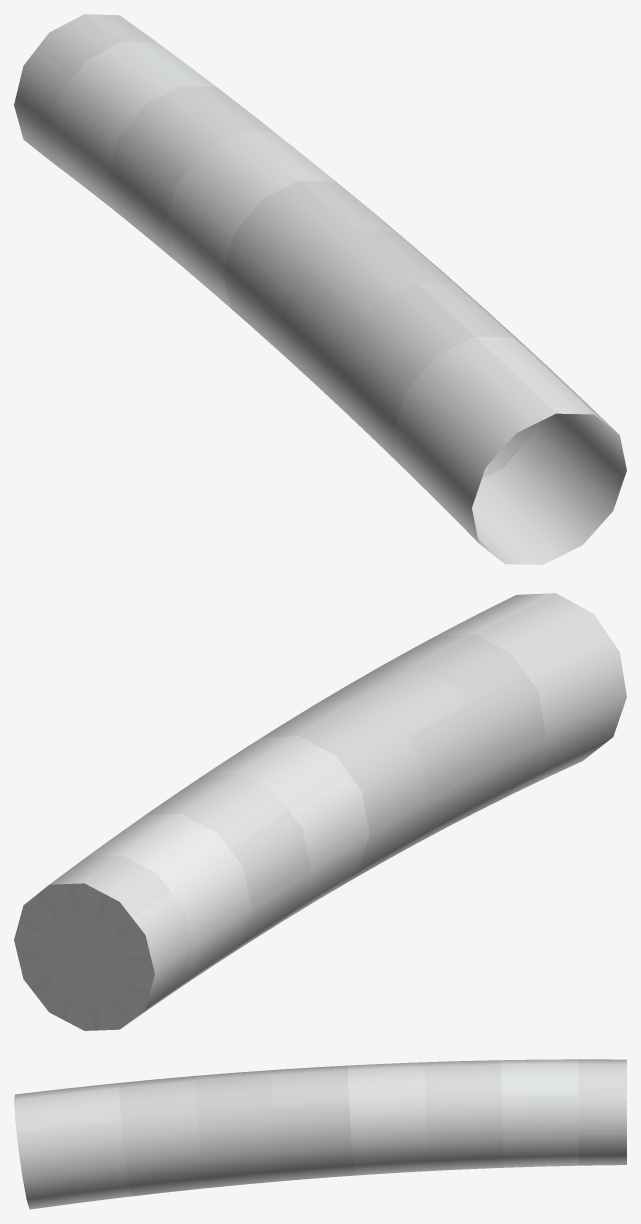
File: luminairearm_laupsweep12ft_c7.obj
The picture shows the model from 3 angles, top to bottom: view 1: azimuth 30°, elevation 25°; view 2: azimuth 150°, elevation 25°; view 3: azimuth 270°, elevation 25°; orthographic projection. The views are drawn at different scales.
Visible parts, largest first — view 1: luminairearm_laupsweep12ft_c7; view 2: luminairearm_laupsweep12ft_c7; view 3: luminairearm_laupsweep12ft_c7.
Part boxes in pixels (x1,y1,x2,y2): luminairearm_laupsweep12ft_c7: (14, 14, 626, 564); luminairearm_laupsweep12ft_c7: (14, 593, 626, 1030); luminairearm_laupsweep12ft_c7: (14, 1059, 626, 1209).
Size of the model in its own units: 0.1925 by 0.2555 by 1.01.
